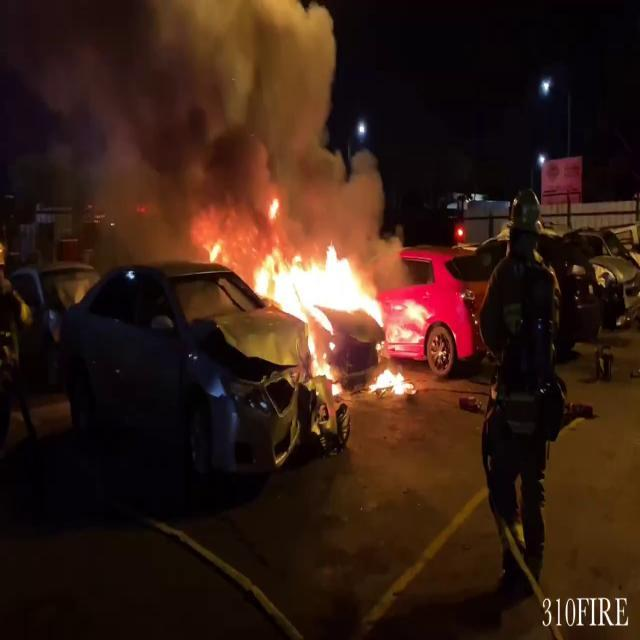Fire: (250, 230, 416, 398), (368, 360, 416, 398)
Smoke: (29, 1, 378, 250)
